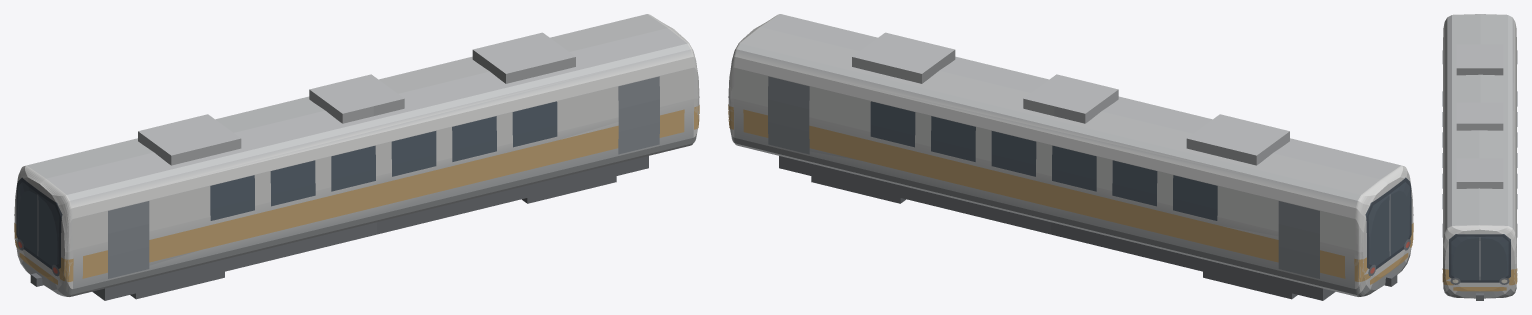
The model's file is 05_TRA_classic_3x2-03.glb.
The picture shows the model from 3 angles, left to right: view 1: azimuth 30°, elevation 25°; view 2: azimuth 150°, elevation 25°; view 3: azimuth 270°, elevation 25°; orthographic projection. The views are drawn at different scales.
Bounding box in the file's own units: 20.32 × 3.98 × 2.94.
